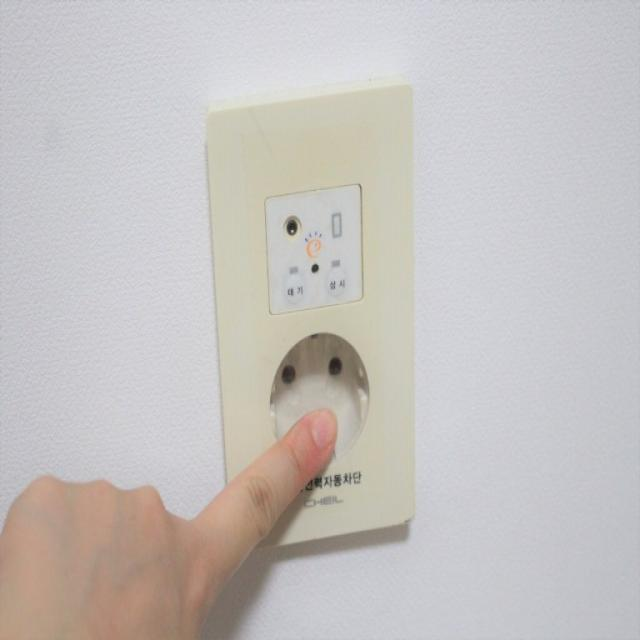typeb: (198, 76, 435, 619)
